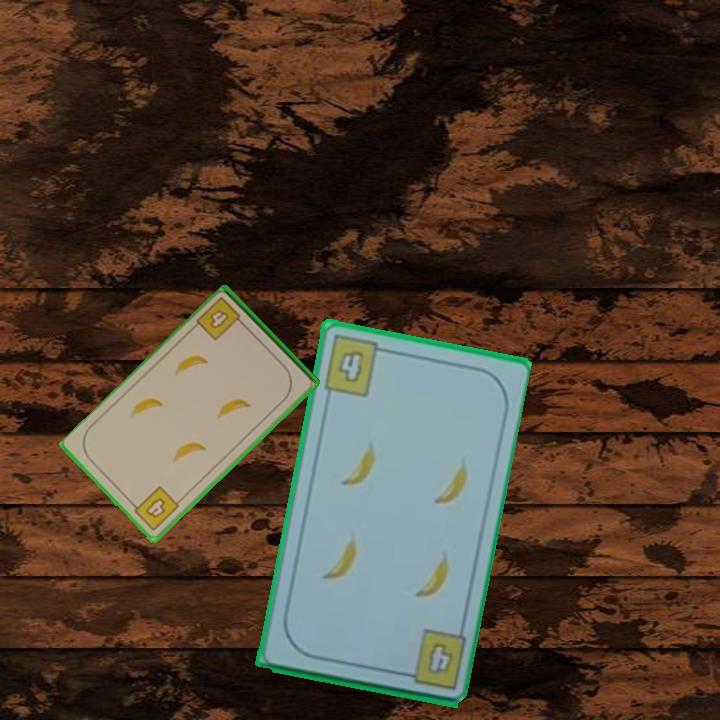4b: (395, 626, 468, 693), (320, 331, 390, 400), (127, 482, 182, 534), (193, 293, 249, 344)
